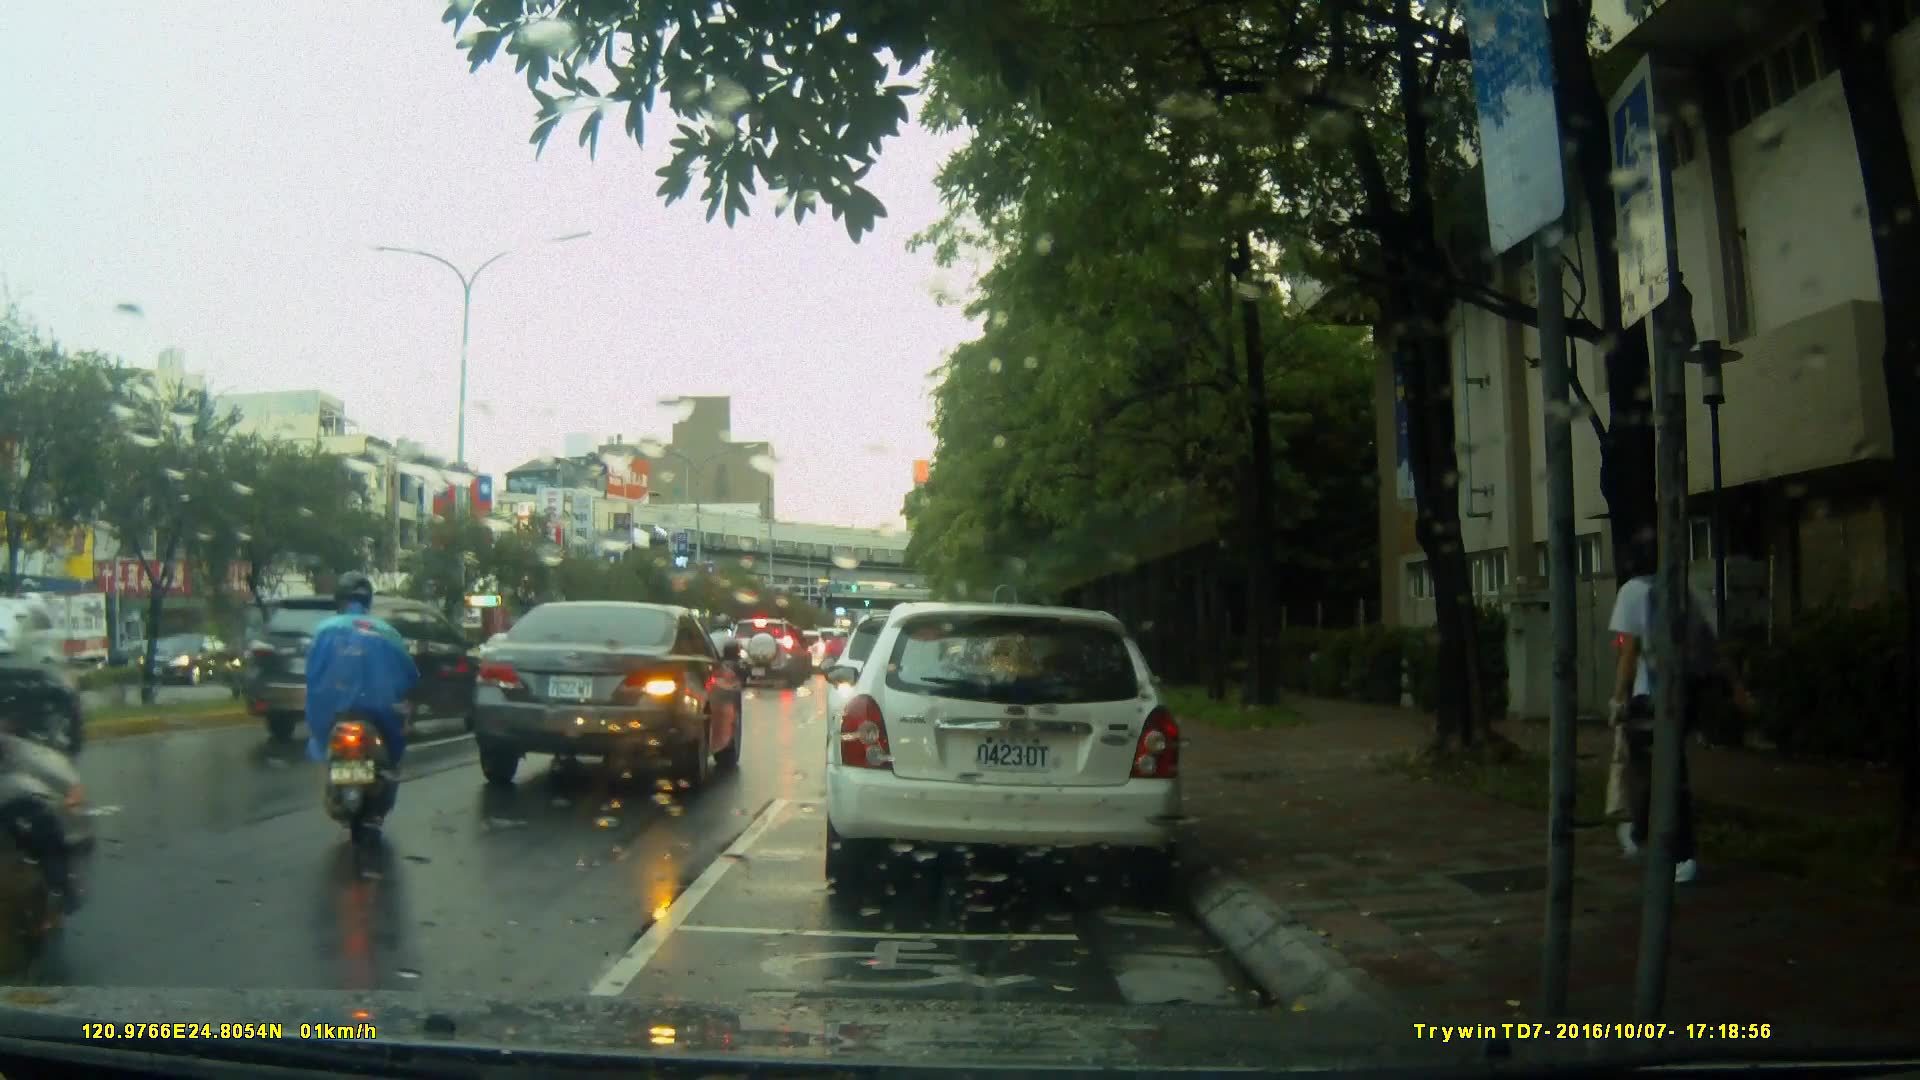pedestrian: (1577, 513, 1722, 882)
rider: (312, 569, 423, 846), (700, 612, 746, 705), (827, 626, 861, 698)
vehicle: (820, 602, 1188, 898), (473, 599, 747, 794), (239, 594, 499, 748), (729, 617, 812, 691)
